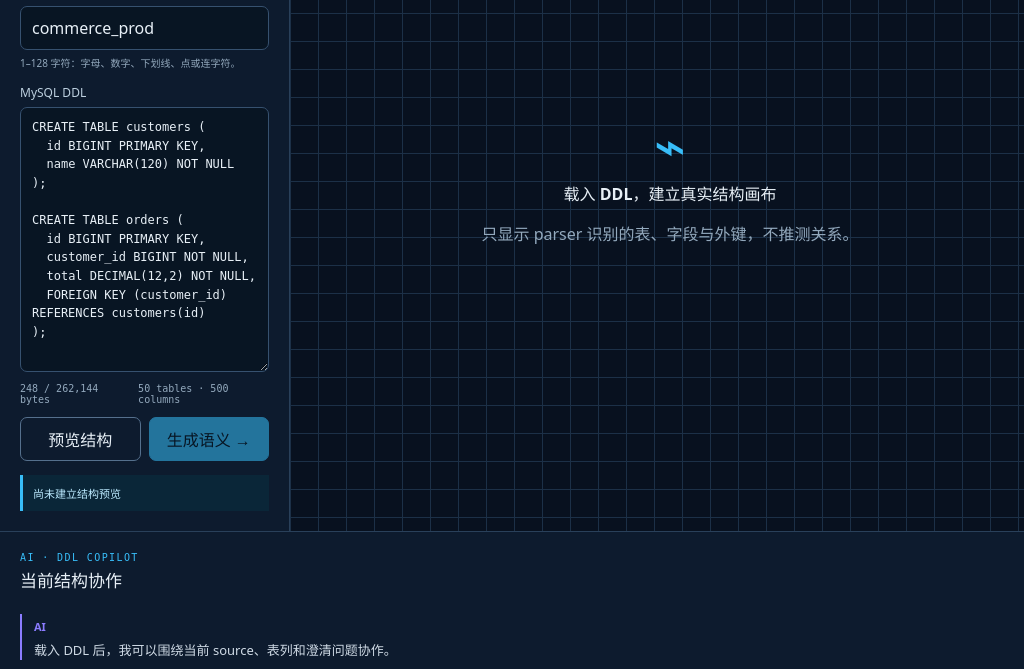
workbench chat › writes the submission coordinate to the URL before acceptance returns
Click the button "预览结构".
click(80, 439)  # box [20,417,140,461]
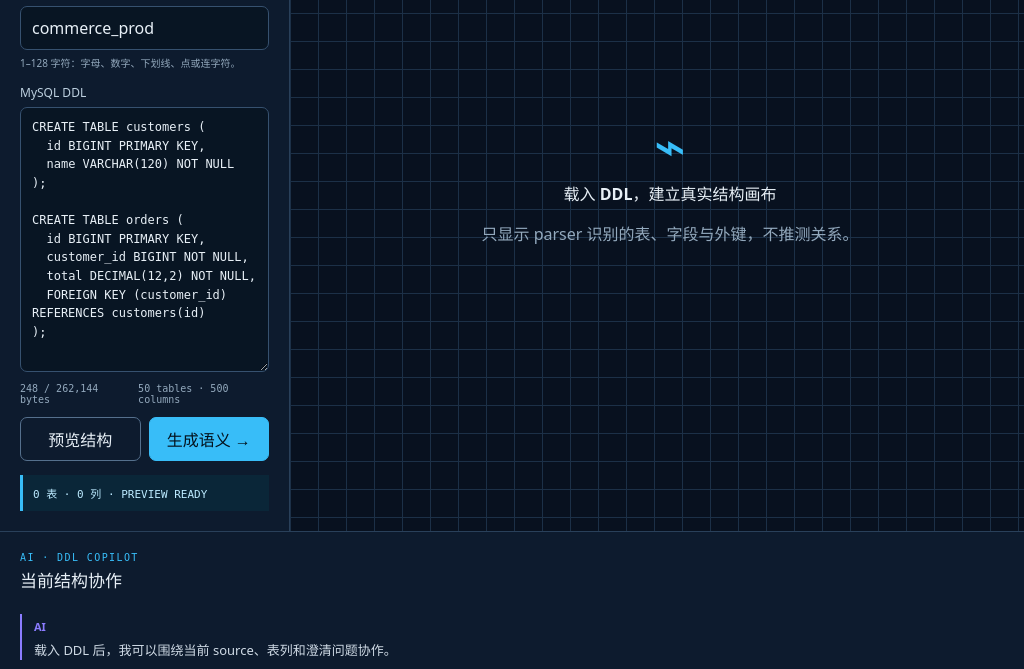
Expected: the button "生成语义 →" is enabled
Click the button "生成语义 →".
click(209, 439)  # box [148,417,269,461]
(page scrolled)
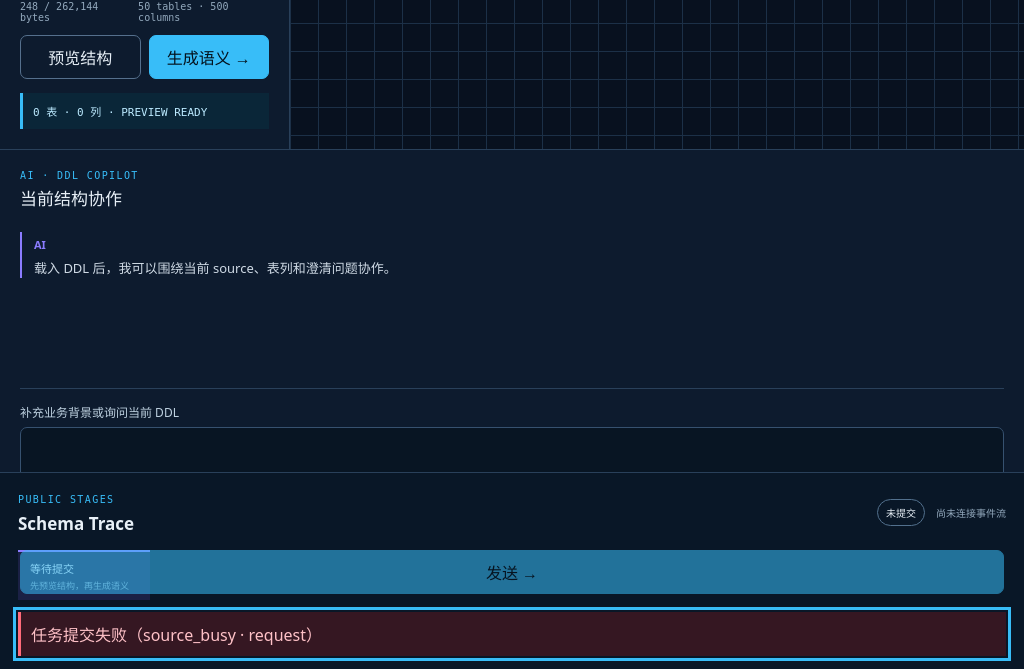
Expected: the text "任务提交失败（source_busy · request）" is shown, [18,612,1006,656]
